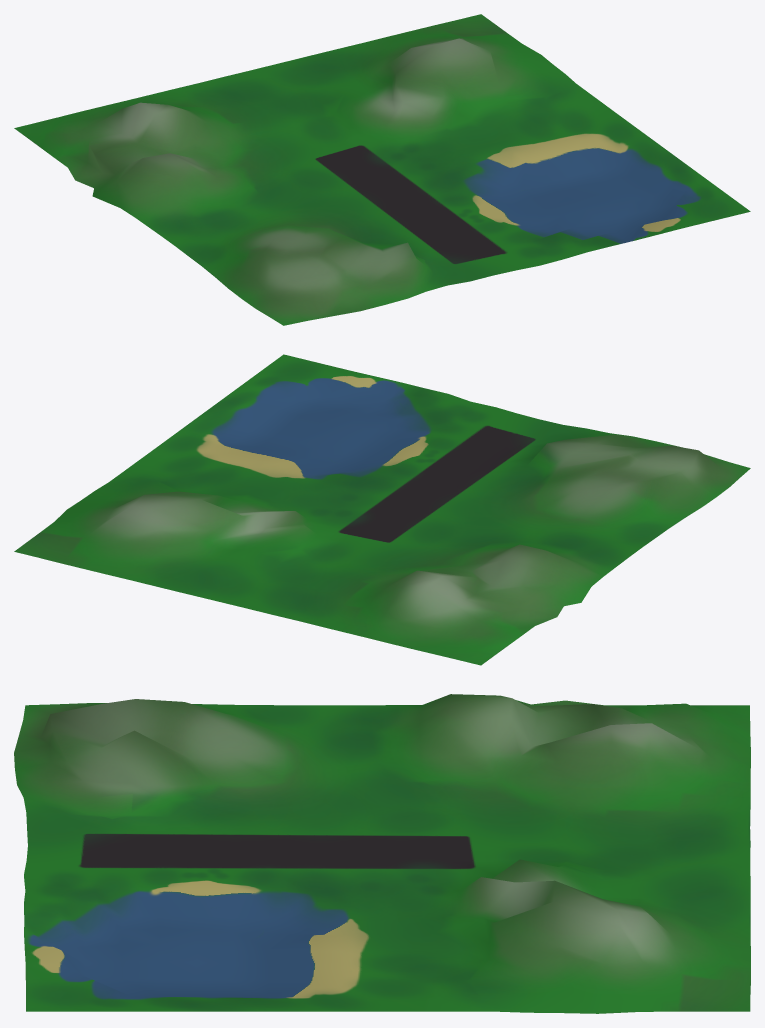
The model's file is terrain.obj.
3 views of the same model, one above another, from view 1: azimuth 30°, elevation 25°; view 2: azimuth 150°, elevation 25°; view 3: azimuth 270°, elevation 25° (orthographic). The views are drawn at different scales.
Visible parts, largest first — view 1: Terrain_Grid; view 2: Terrain_Grid; view 3: Terrain_Grid.
Part boxes in pixels (x1,y1,x2,y2): Terrain_Grid: (14, 14, 750, 325); Terrain_Grid: (14, 354, 750, 665); Terrain_Grid: (14, 694, 750, 1013).
Size of the model in its own units: 132 by 10.65 by 130.
1 material, 1 textured.
